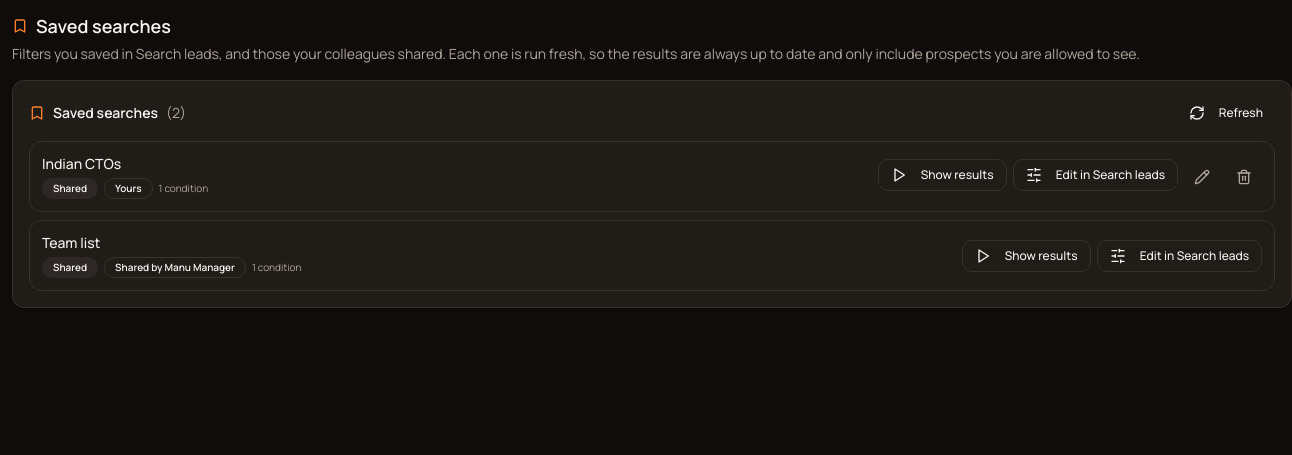
Scenario: refreshes the list when a run fails, since the search may have been removed
The image size is (1292, 455).
Click the button with aria-label "Show results for saved search Indian CTOs" at (942, 174), box left=878, top=158, right=1007, bottom=190
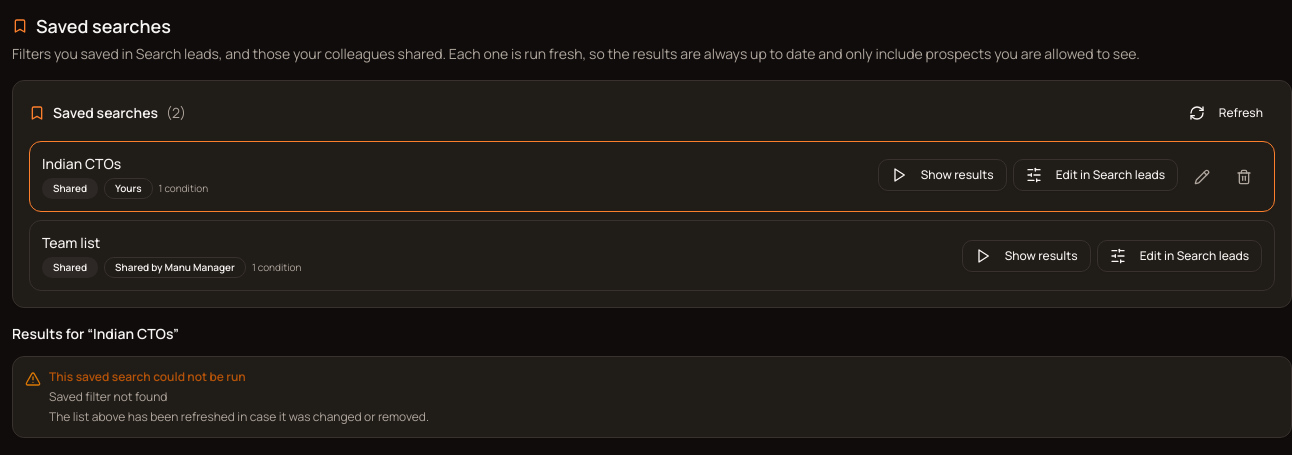
Now the message shows "Saved filter not found", box left=49, top=388, right=167, bottom=405
